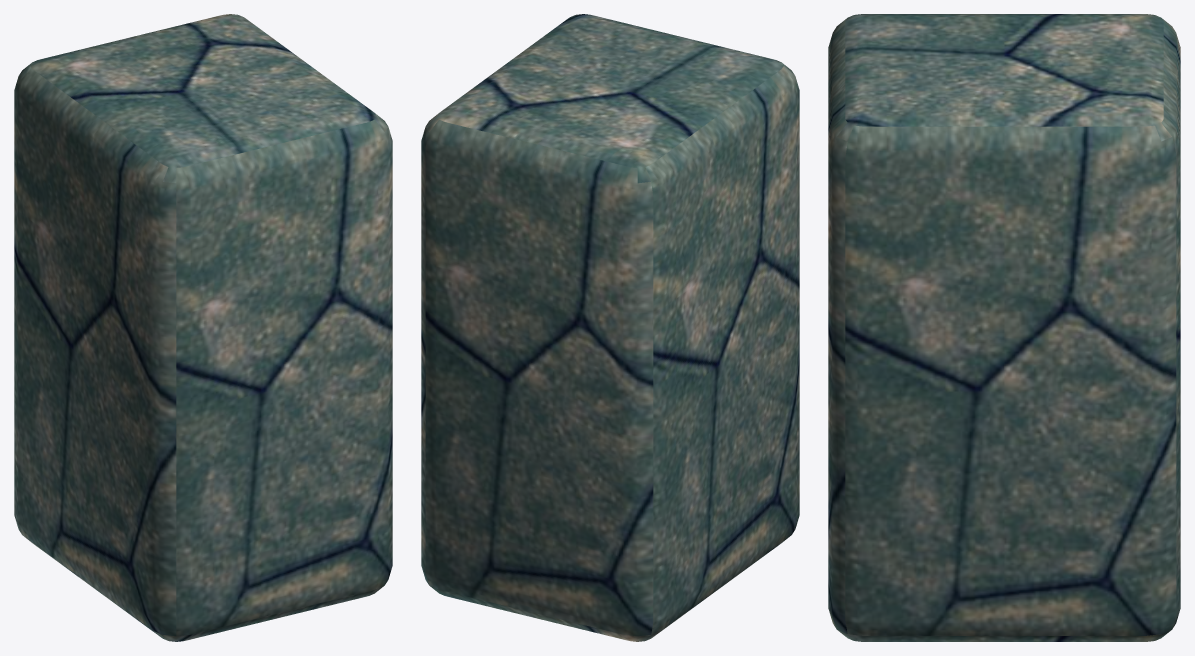
File: chamfercube.FBX
The picture shows the model from 3 angles, left to right: view 1: azimuth 30°, elevation 25°; view 2: azimuth 150°, elevation 25°; view 3: azimuth 270°, elevation 25°; orthographic projection. The views are drawn at different scales.
Visible parts, largest first — view 1: ChamferBox001; view 2: ChamferBox001; view 3: ChamferBox001.
Part boxes in pixels (x1,y1,x2,y2): ChamferBox001: (14, 14, 392, 641); ChamferBox001: (421, 14, 799, 641); ChamferBox001: (828, 14, 1180, 641).
Bounding box in the file's own units: 79.85 × 153 × 93.65.
1 material, 1 textured.
